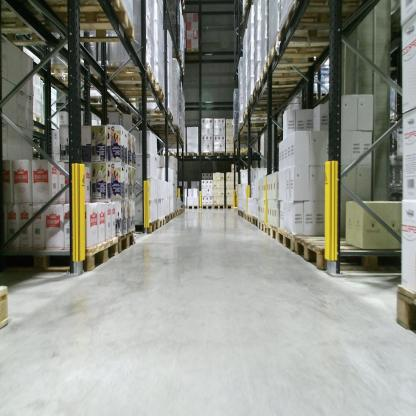pallet: (1, 219, 159, 329), (0, 234, 119, 274), (276, 1, 364, 48), (296, 235, 410, 271), (33, 2, 134, 42), (0, 2, 63, 48), (266, 32, 335, 71), (257, 57, 324, 92), (251, 81, 315, 102), (96, 68, 157, 90), (43, 63, 90, 91), (112, 82, 165, 105), (393, 285, 414, 331), (84, 94, 127, 115), (241, 108, 281, 126), (246, 95, 291, 111), (139, 105, 174, 123), (277, 223, 294, 254), (118, 231, 138, 254), (232, 133, 264, 145), (237, 122, 271, 133), (186, 43, 200, 66), (28, 108, 42, 129), (266, 221, 278, 244), (258, 217, 267, 236), (252, 215, 260, 229), (187, 202, 199, 211), (187, 150, 200, 158), (237, 209, 245, 221), (158, 217, 166, 229), (246, 213, 253, 226), (200, 204, 212, 211), (200, 150, 212, 157), (225, 151, 238, 157), (164, 213, 171, 223), (212, 204, 225, 209), (226, 204, 237, 209), (214, 151, 225, 156), (243, 211, 247, 221), (170, 211, 174, 220), (174, 209, 178, 216)
